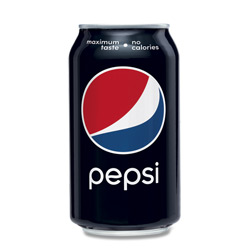can: (63, 16, 184, 237)
